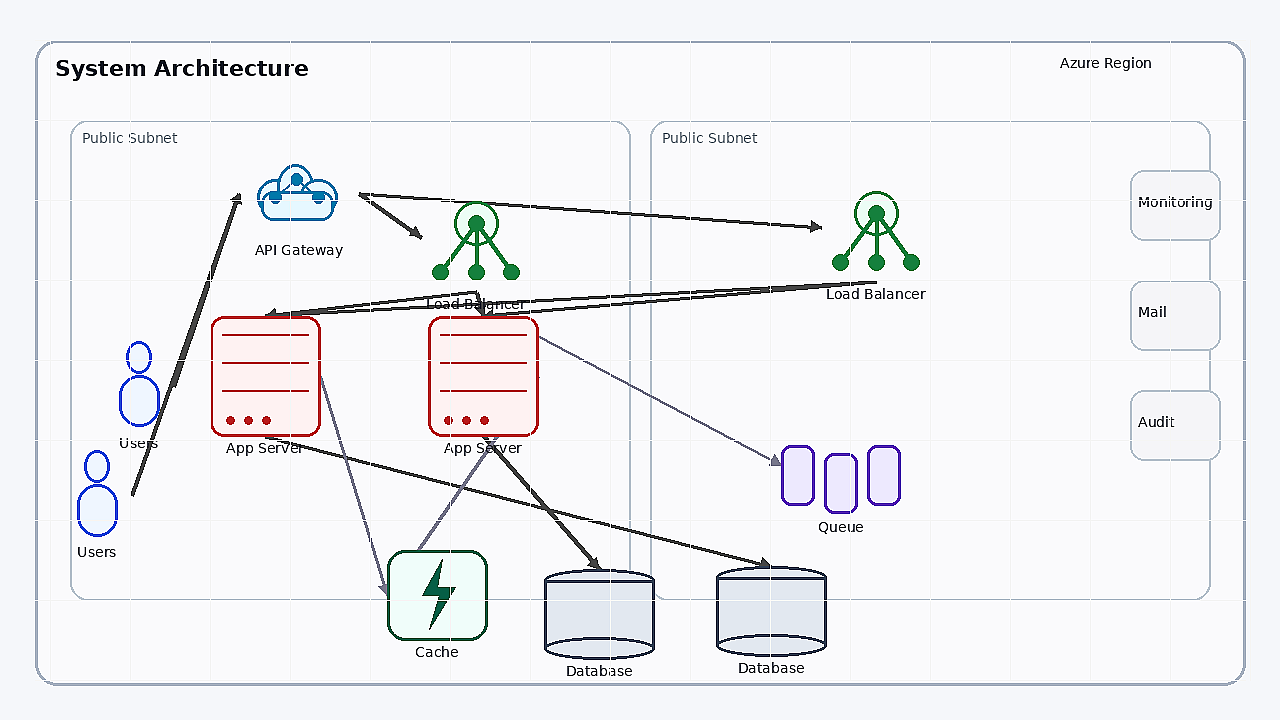API Gateway: (239, 148, 359, 238)
Application Server: (210, 316, 320, 436), (428, 316, 538, 436)
Cache: (387, 550, 487, 640)
Database: (716, 566, 826, 656), (544, 569, 654, 659)
Load Balancer: (421, 182, 531, 292), (821, 172, 931, 282)
Message Queue: (781, 445, 901, 515)
User: (104, 341, 174, 431), (62, 450, 132, 540)
